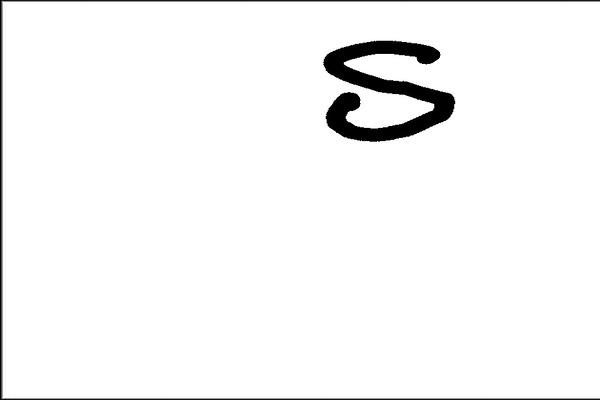S: (315, 33, 460, 147)
